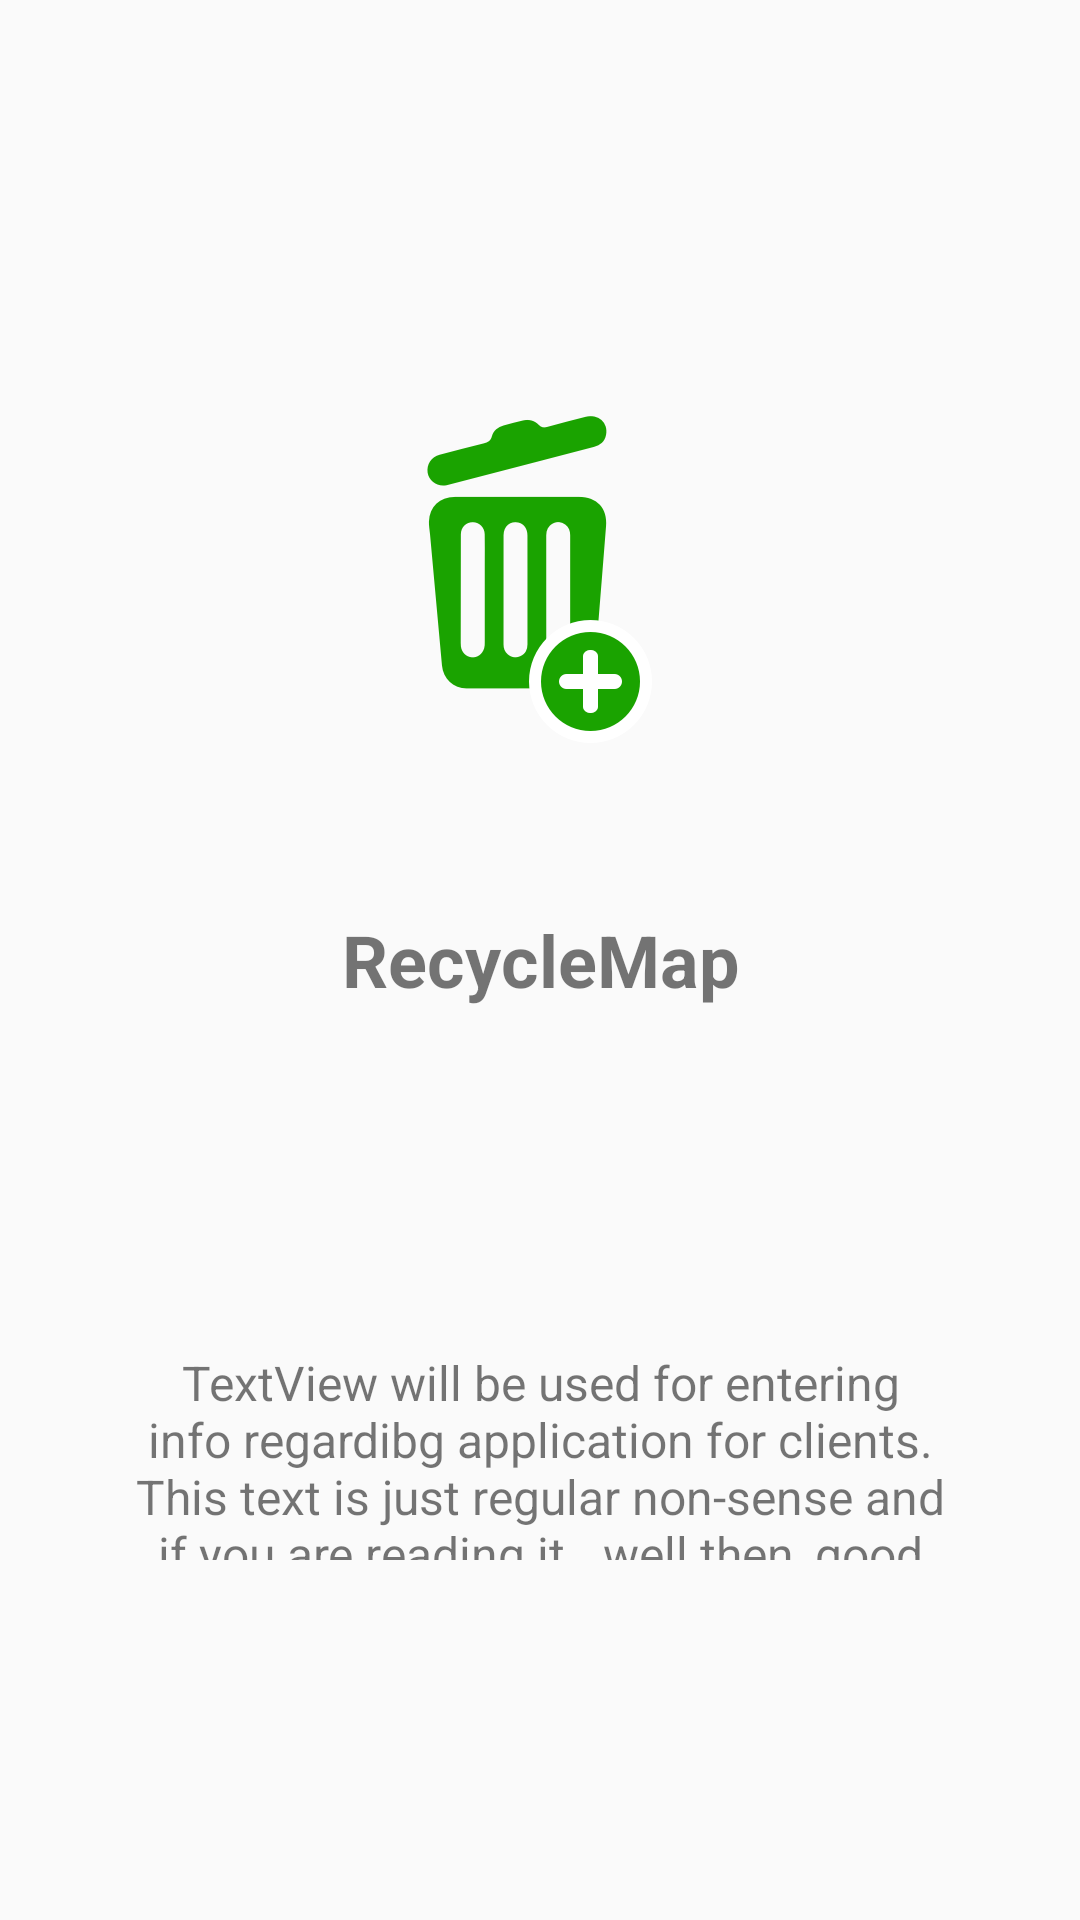

Screen size 1080px×1920px. Icon name, then its center in pixels as point (x, y):
add waste center: point (533, 573)
